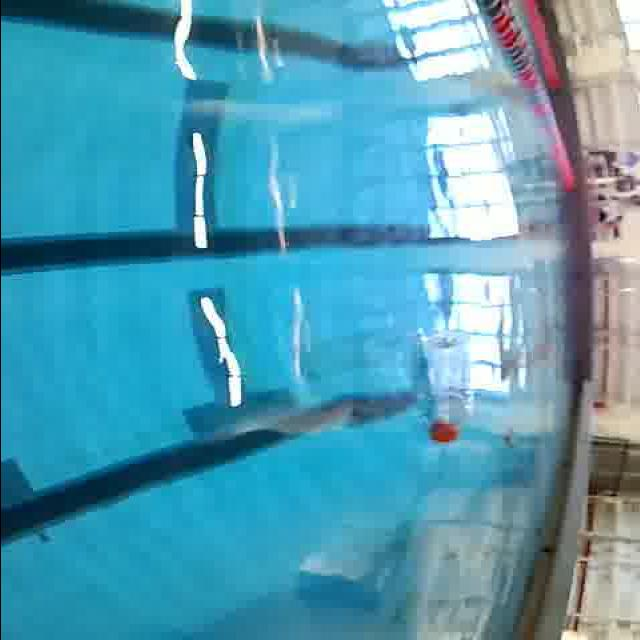Bottle: (412, 321, 477, 448)
